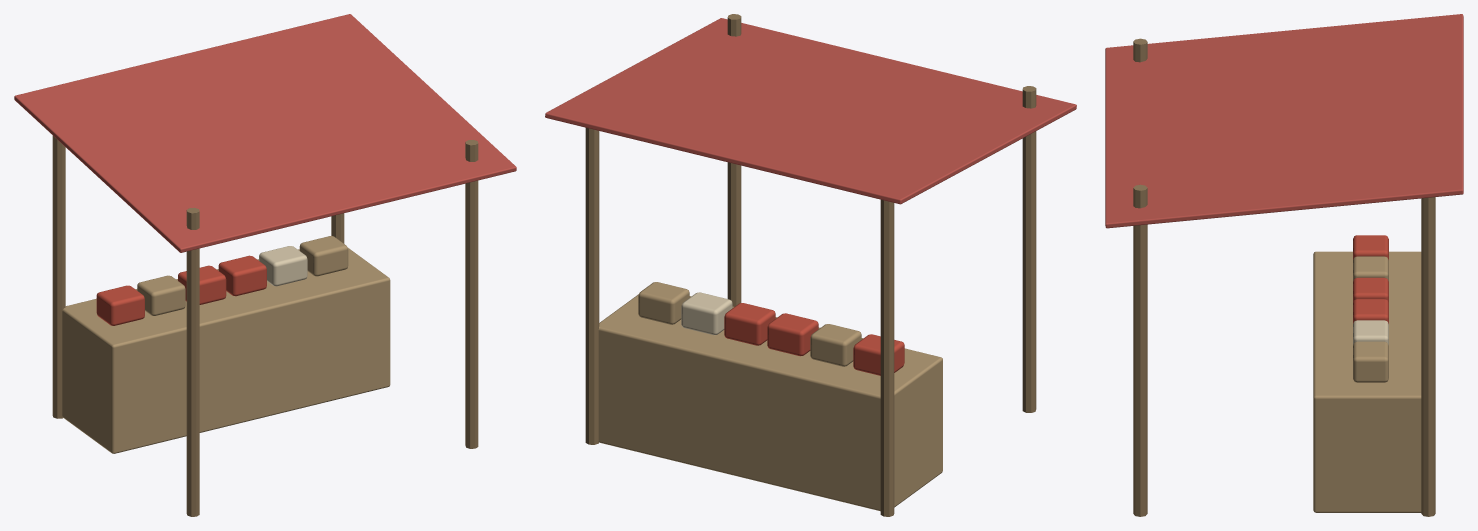
File: stall_3.glb
3 renders of one model, left to right at view 1: azimuth 30°, elevation 25°; view 2: azimuth 150°, elevation 25°; view 3: azimuth 270°, elevation 25°, orthographic. The views are drawn at different scales.
Visible parts, largest first — view 1: Awning, Counter, Post, Post.002, Post.001, Goods, Goods.005, Goods.003, Goods.004, Goods.001, Goods.002; view 2: Awning, Counter, Post.001, Post.003, Post, Post.002, Goods.002, Goods.004, Goods.001, Goods.003, Goods.005, Goods; view 3: Awning, Counter, Post.003, Post.002, Goods.005, Goods.002, Goods.004, Goods, Goods.001, Goods.003.
Part boxes in pixels (left/top/right/bottom): Awning: left=14, top=14, right=516, bottom=252; Counter: left=62, top=247, right=390, bottom=453; Post: left=186, top=207, right=199, bottom=516; Post.002: left=465, top=139, right=478, bottom=448; Post.001: left=52, top=135, right=65, bottom=418; Goods: left=96, top=285, right=144, bottom=325; Goods.005: left=299, top=236, right=348, bottom=276; Goods.003: left=218, top=255, right=266, bottom=296; Goods.004: left=259, top=246, right=307, bottom=286; Goods.001: left=137, top=275, right=185, bottom=315; Goods.002: left=178, top=265, right=226, bottom=304; Awning: left=545, top=18, right=1076, bottom=204; Counter: left=598, top=294, right=942, bottom=511; Post.001: left=880, top=199, right=894, bottom=516; Post.003: left=585, top=127, right=599, bottom=444; Post: left=1022, top=86, right=1036, bottom=412; Post.002: left=727, top=14, right=741, bottom=306; Goods.002: left=767, top=313, right=818, bottom=356; Goods.004: left=681, top=292, right=732, bottom=335; Goods.001: left=810, top=324, right=861, bottom=366; Goods.003: left=724, top=303, right=775, bottom=345; Goods.005: left=638, top=282, right=689, bottom=324; Goods: left=853, top=334, right=904, bottom=375; Awning: left=1105, top=14, right=1463, bottom=228; Counter: left=1313, top=251, right=1421, bottom=512; Post.003: left=1421, top=197, right=1435, bottom=516; Post.002: left=1133, top=184, right=1147, bottom=516; Goods.005: left=1353, top=341, right=1388, bottom=382; Goods.002: left=1353, top=277, right=1388, bottom=302; Goods.004: left=1353, top=320, right=1388, bottom=345; Goods: left=1353, top=235, right=1388, bottom=259; Goods.001: left=1353, top=256, right=1388, bottom=281; Goods.003: left=1353, top=299, right=1388, bottom=323.
Size of the model in its own units: 2.9 by 2.6 by 2.49.
